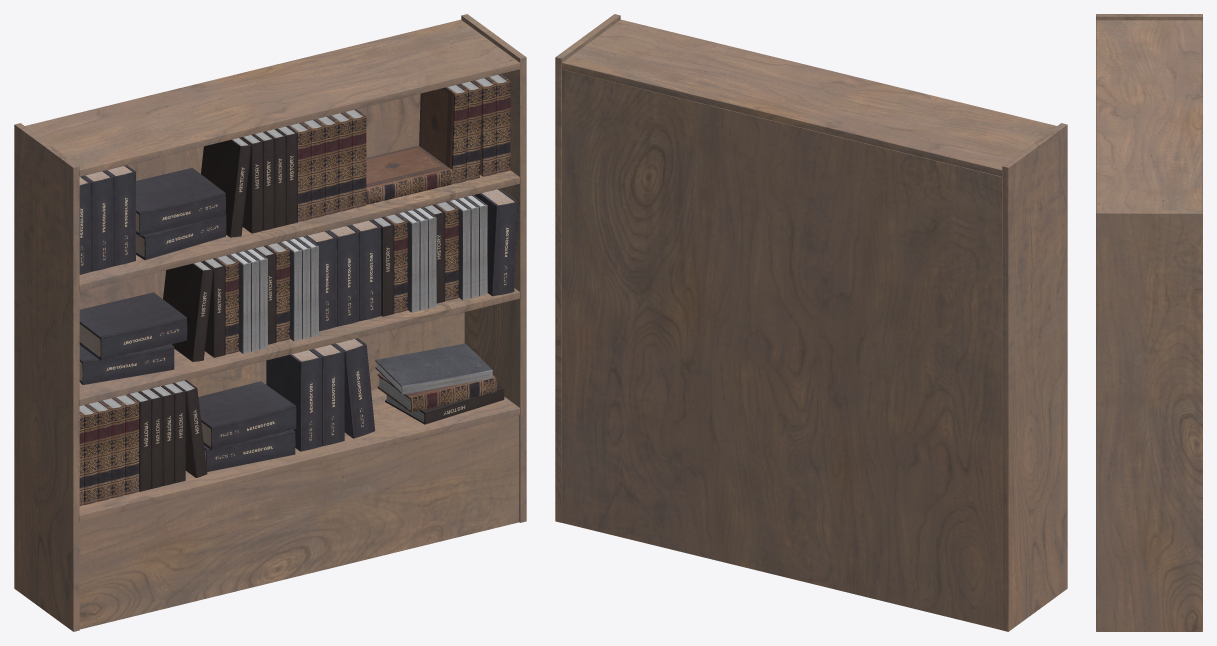
The picture shows the model from 3 angles, left to right: view 1: azimuth 30°, elevation 25°; view 2: azimuth 150°, elevation 25°; view 3: azimuth 270°, elevation 25°; orthographic projection. The views are drawn at different scales.
Parts seen in each view (by area): view 1: book_shelf.Shape; view 2: book_shelf.Shape; view 3: book_shelf.Shape.
Boxes of the visible parts, x1=… form: book_shelf.Shape: x1=14, y1=14, x2=526, y2=631; book_shelf.Shape: x1=555, y1=14, x2=1067, y2=631; book_shelf.Shape: x1=1096, y1=14, x2=1202, y2=631.
Size of the model in its own units: 1.01 by 0.9838 by 0.2272.
2 materials, 2 textured.
